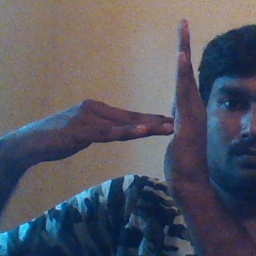Z: (88, 17, 205, 183)
